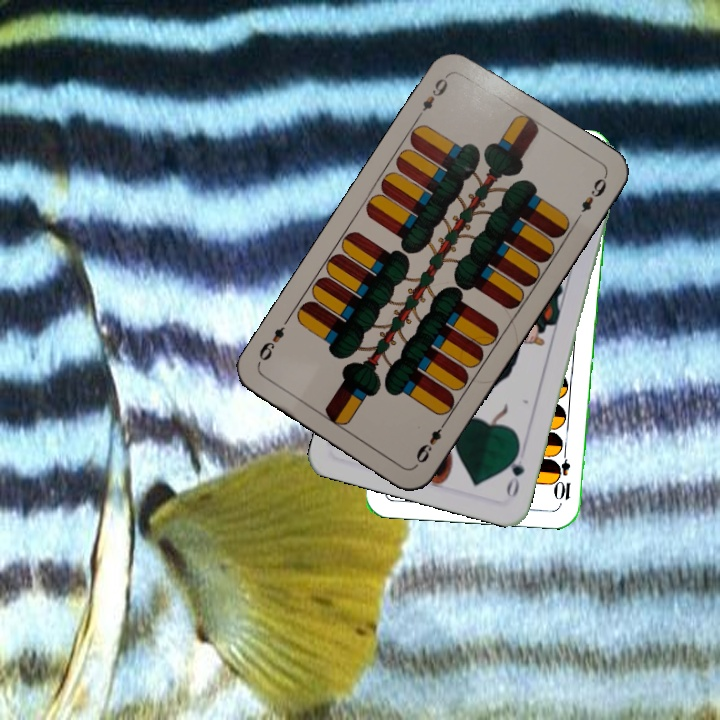E10: (554, 444, 573, 503)
E9: (412, 70, 451, 122), (412, 416, 450, 468)
GO: (502, 442, 527, 501)
